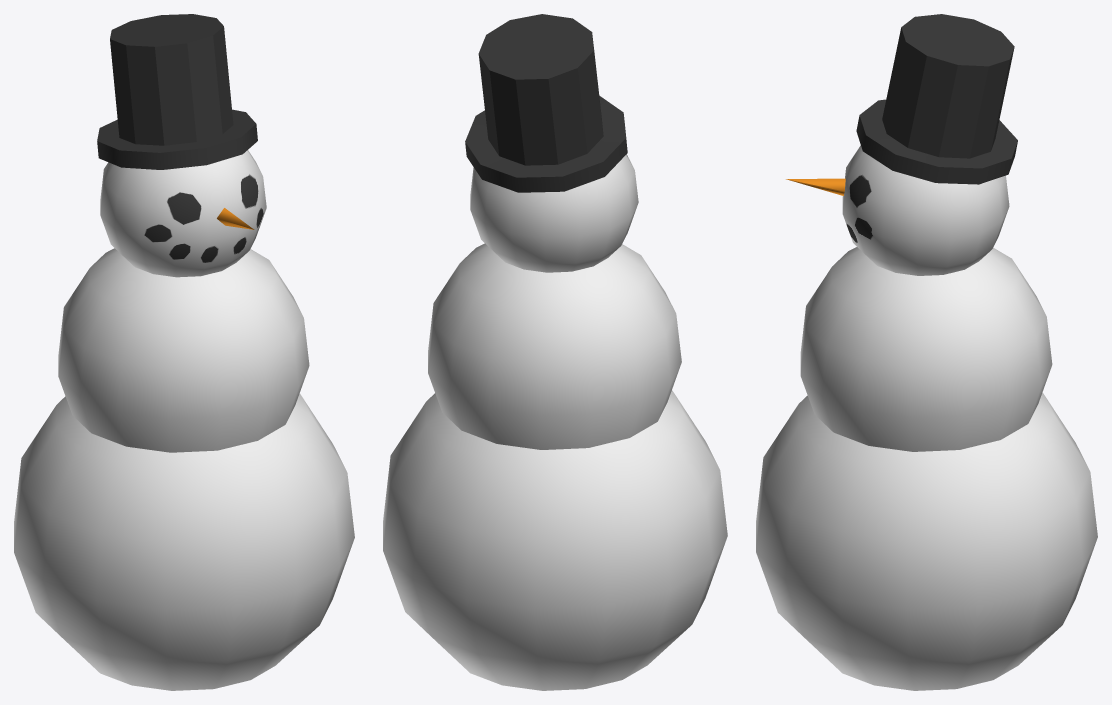
Rendered from SnowmanBackpack.FBX.
3 renders of one model, left to right at view 1: azimuth 30°, elevation 25°; view 2: azimuth 150°, elevation 25°; view 3: azimuth 270°, elevation 25°, orthographic.
Parts seen in each view (by area): view 1: Sphere003; view 2: Sphere003; view 3: Sphere003.
Part boxes in pixels (left/top/right/bottom): Sphere003: left=14, top=14, right=354, bottom=690; Sphere003: left=383, top=14, right=727, bottom=690; Sphere003: left=756, top=14, right=1097, bottom=690.
Size of the model in its own units: 0.4975 by 1.03 by 0.4947.
1 material, 1 textured.
